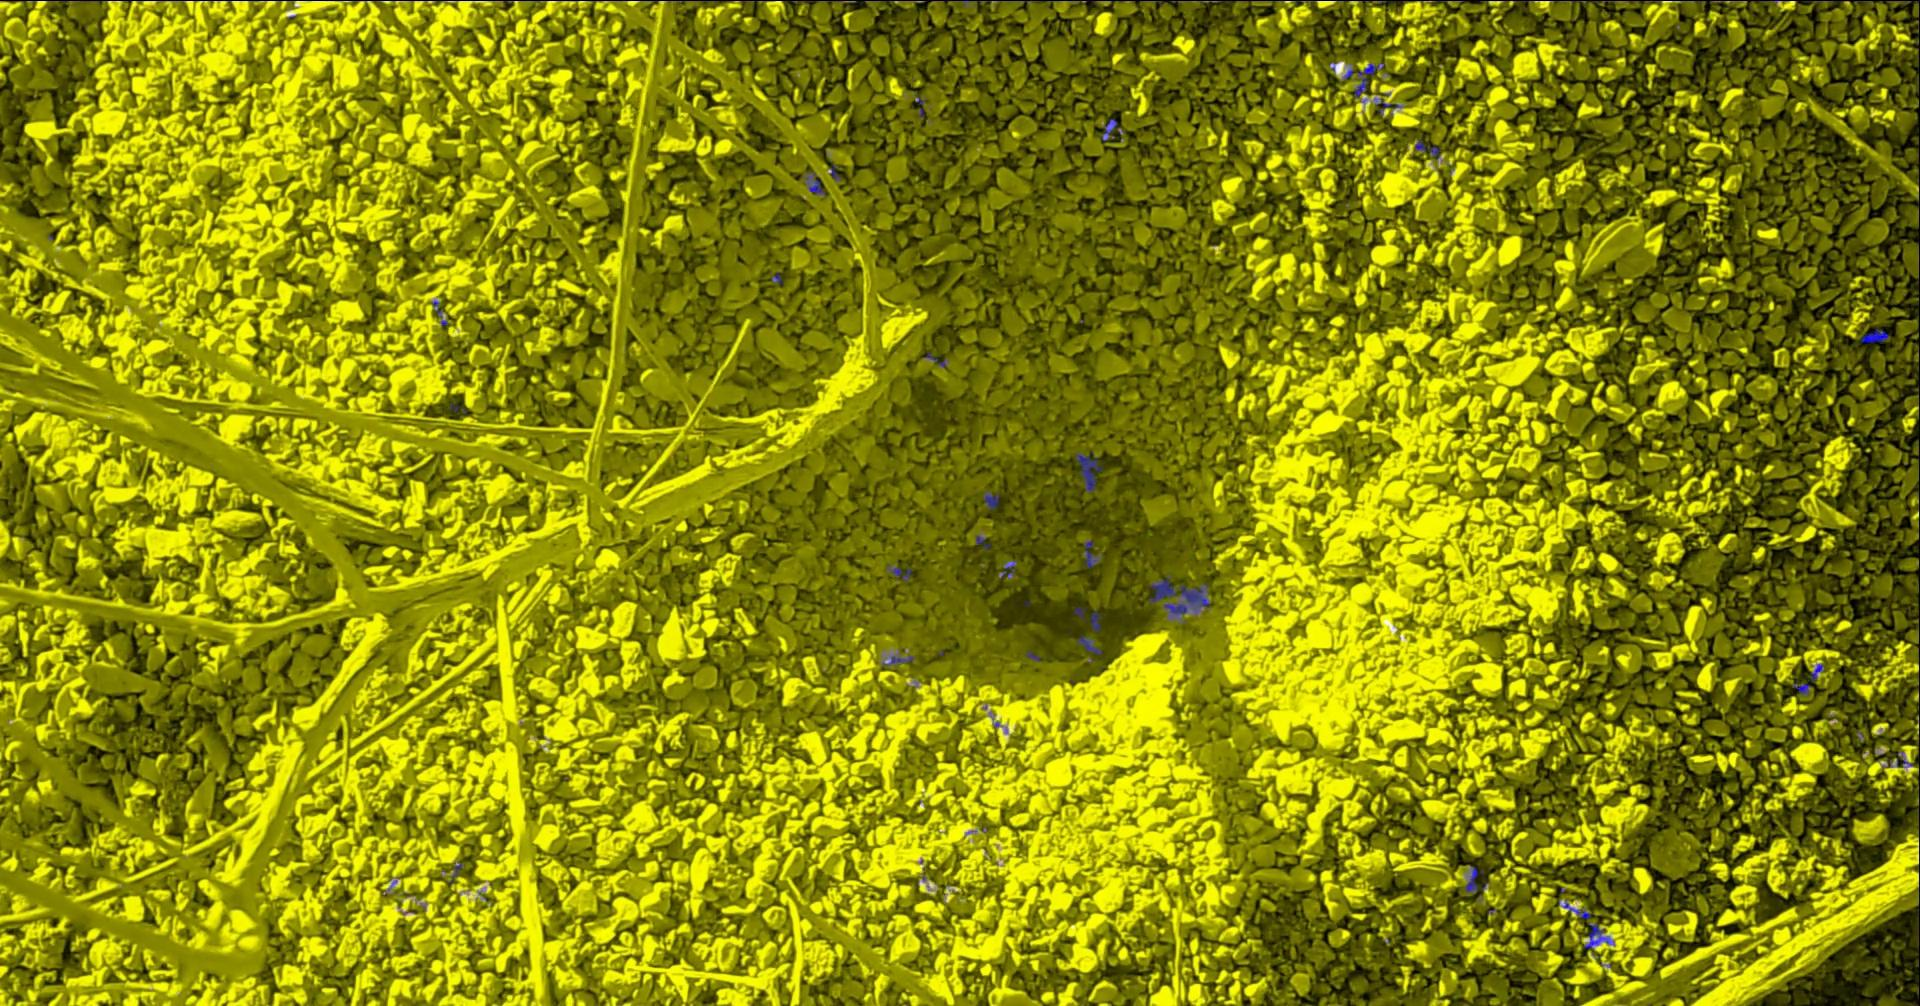ant: (1564, 899, 1615, 948), (1345, 62, 1385, 97), (1077, 451, 1105, 492), (1793, 663, 1825, 695), (1465, 865, 1491, 893), (1416, 137, 1441, 159), (1084, 539, 1103, 567), (1078, 635, 1103, 654), (1377, 98, 1403, 116), (806, 171, 827, 194), (433, 300, 450, 326), (1103, 118, 1124, 140), (1862, 328, 1890, 343), (888, 564, 913, 580), (933, 0, 993, 6), (926, 351, 949, 367), (1087, 610, 1103, 631), (884, 655, 916, 666), (1001, 560, 1018, 578), (984, 490, 1001, 509), (916, 91, 927, 117), (1898, 751, 1914, 766), (830, 163, 843, 180), (977, 535, 992, 549), (1197, 0, 1253, 3), (792, 0, 843, 3), (998, 0, 1060, 1)
